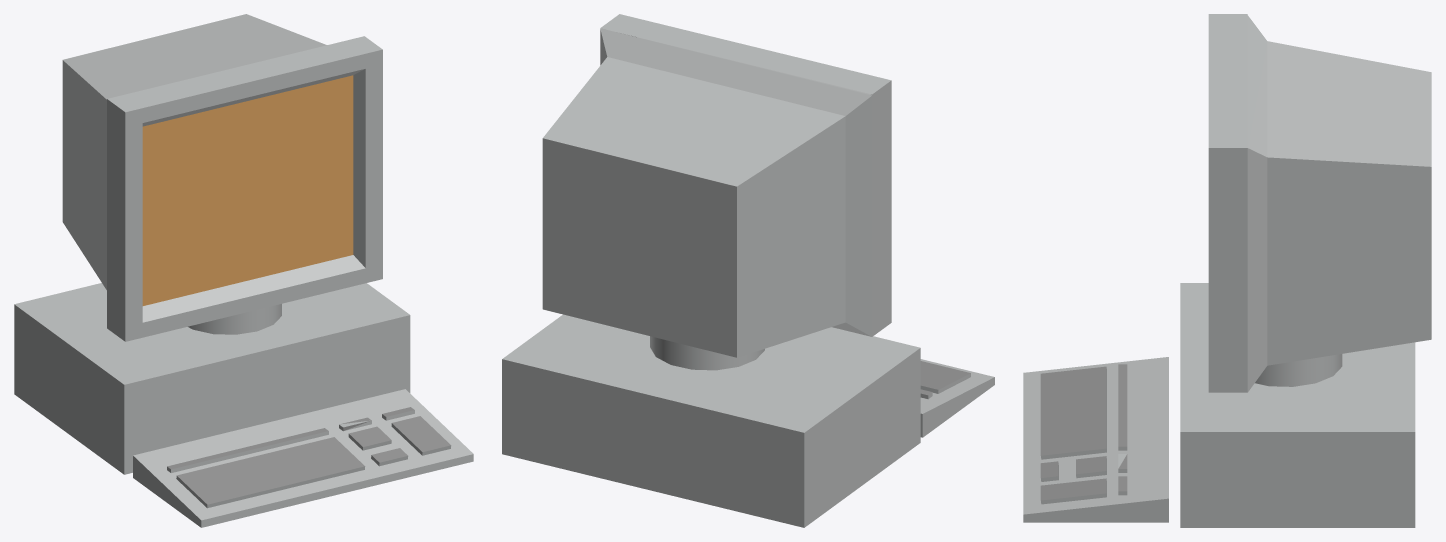
The model's file is computer.glb.
3 views of the same model, side by side, from view 1: azimuth 30°, elevation 25°; view 2: azimuth 150°, elevation 25°; view 3: azimuth 270°, elevation 25° (orthographic). The views are drawn at different scales.
Visible parts, largest first — view 1: Layer0_001; view 2: Layer0_001; view 3: Layer0_001.
Part boxes in pixels (box(x1,y1,x2,y2)): Layer0_001: box(14, 14, 473, 527); Layer0_001: box(502, 14, 994, 527); Layer0_001: box(1023, 14, 1431, 527).
Size of the model in its own units: 0.5069 by 0.5914 by 0.5877.
